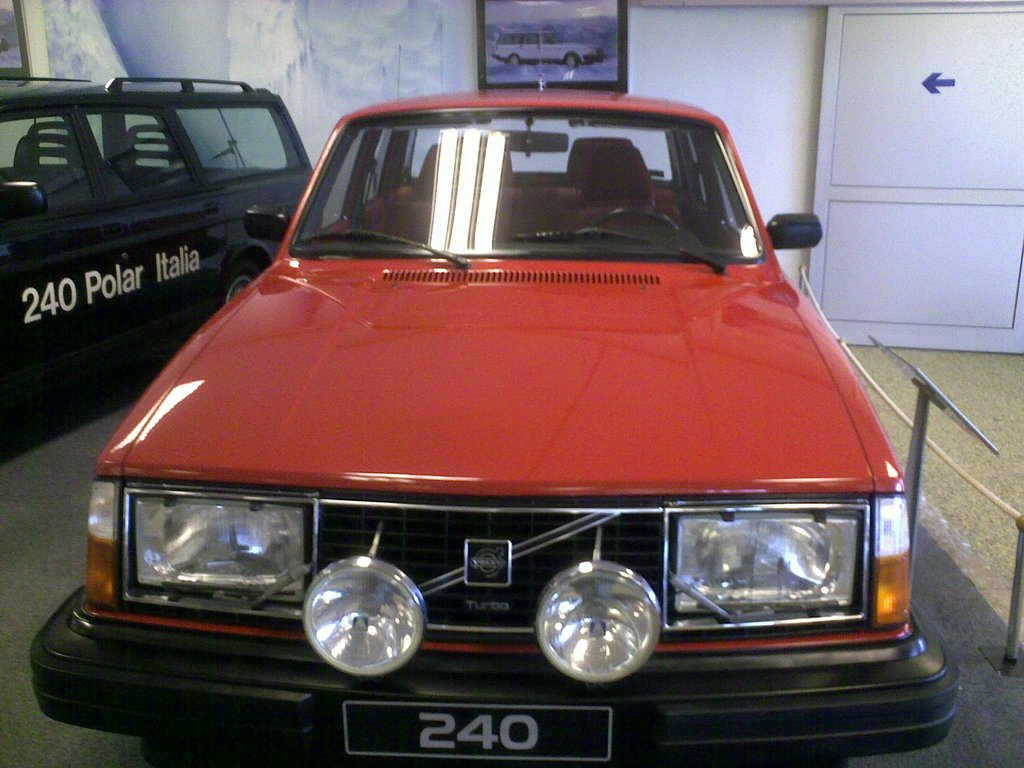Car: (63, 96, 892, 739), (0, 77, 318, 435), (496, 25, 605, 67)
